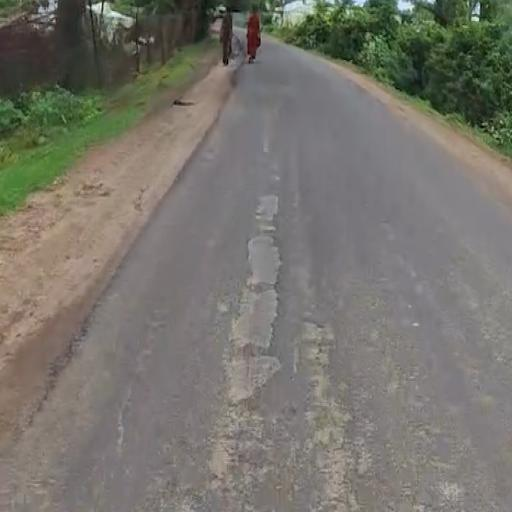ravelling: (195, 159, 305, 503)
